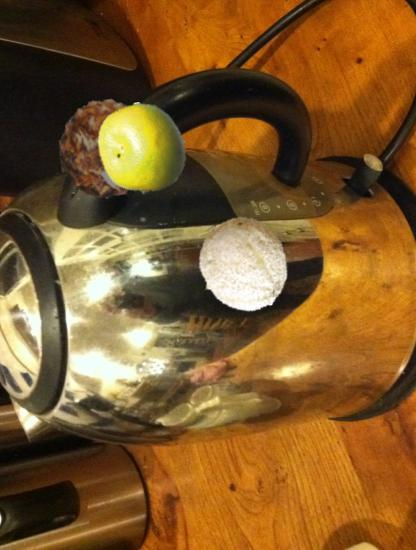Cantaloupe: (195, 216, 293, 314)
Pineapple: (53, 98, 155, 200)
Pomelo: (97, 102, 190, 195)
